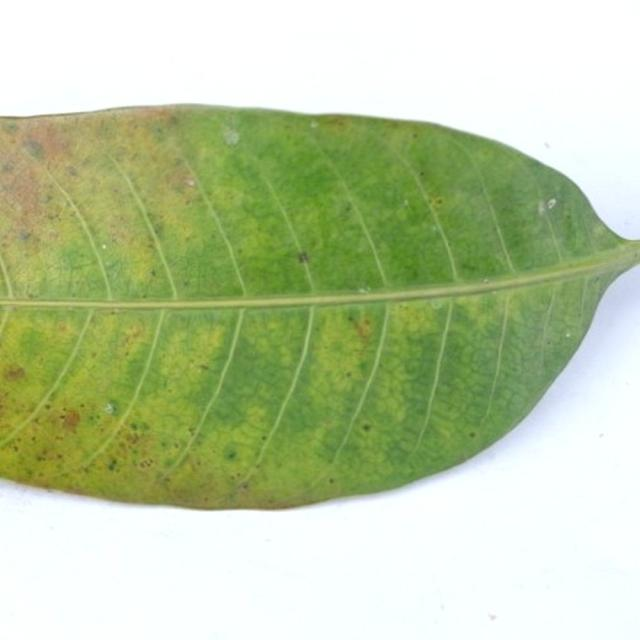Mango: (0, 107, 639, 508)
Powdery_Mildew: (0, 139, 90, 263), (46, 406, 156, 481), (22, 233, 123, 301), (148, 455, 269, 506), (46, 394, 122, 450), (6, 318, 71, 381), (226, 394, 281, 448), (19, 123, 81, 170), (28, 421, 83, 465), (390, 300, 438, 343), (381, 436, 416, 466), (165, 165, 200, 194), (319, 431, 350, 461), (119, 325, 146, 351), (350, 317, 372, 341), (459, 256, 486, 275), (59, 409, 81, 431), (222, 126, 241, 146), (24, 139, 45, 157), (3, 366, 26, 381), (538, 198, 556, 214), (2, 120, 20, 134), (428, 196, 444, 210), (339, 203, 353, 218), (3, 161, 16, 173), (297, 251, 310, 263), (19, 230, 32, 241), (225, 449, 237, 459), (107, 403, 117, 415), (27, 292, 37, 299), (188, 427, 196, 435), (362, 424, 371, 431), (310, 121, 319, 128), (469, 432, 476, 438), (328, 478, 335, 484), (419, 170, 425, 177), (183, 280, 189, 286), (546, 339, 551, 346)
